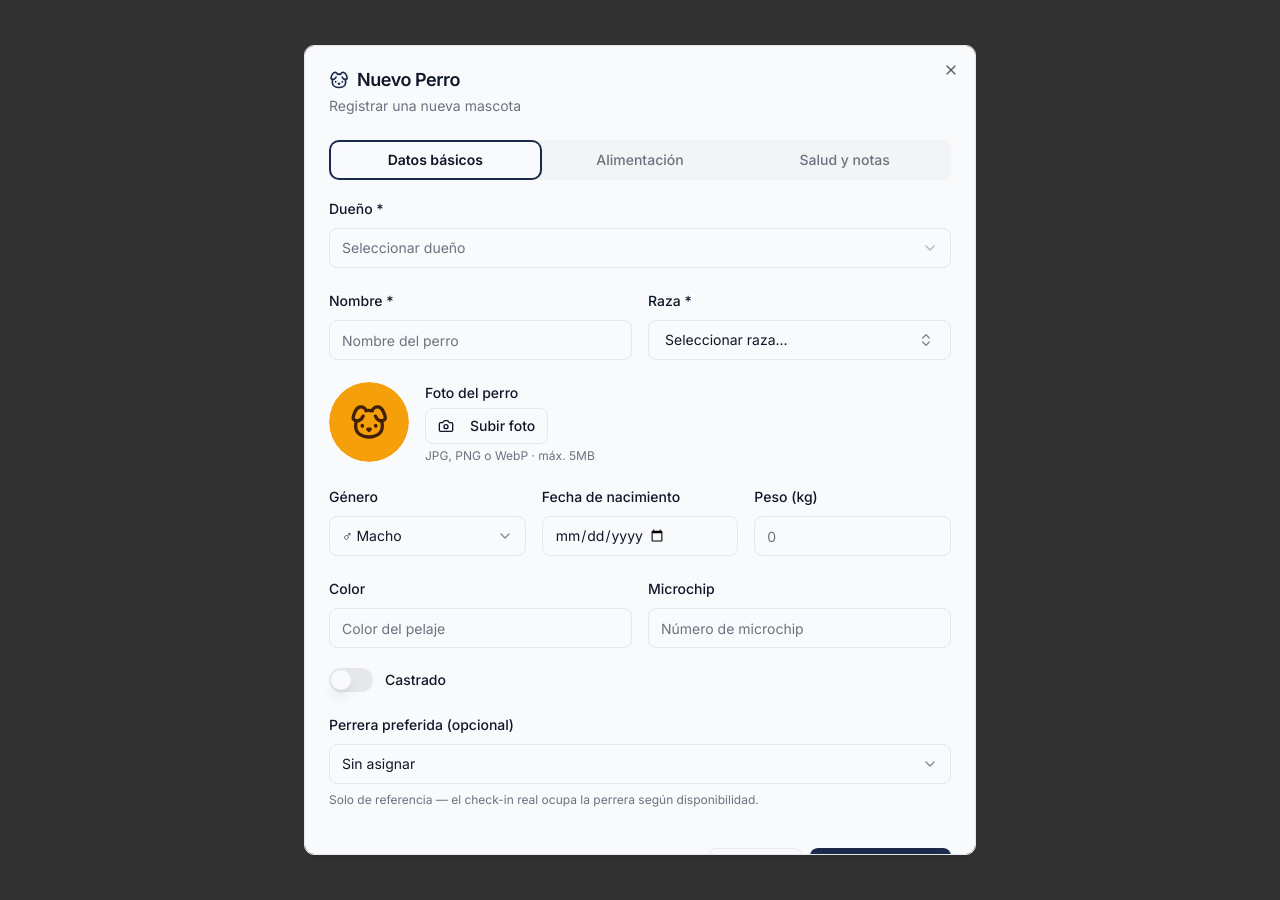
Test: DogModal — tabs y formulario clínico › revela el sub-form de agresividad al encender el toggle (tab salud)
Press the mouse on the tab "Salud y notas": (845, 160) [742,144,947,176]
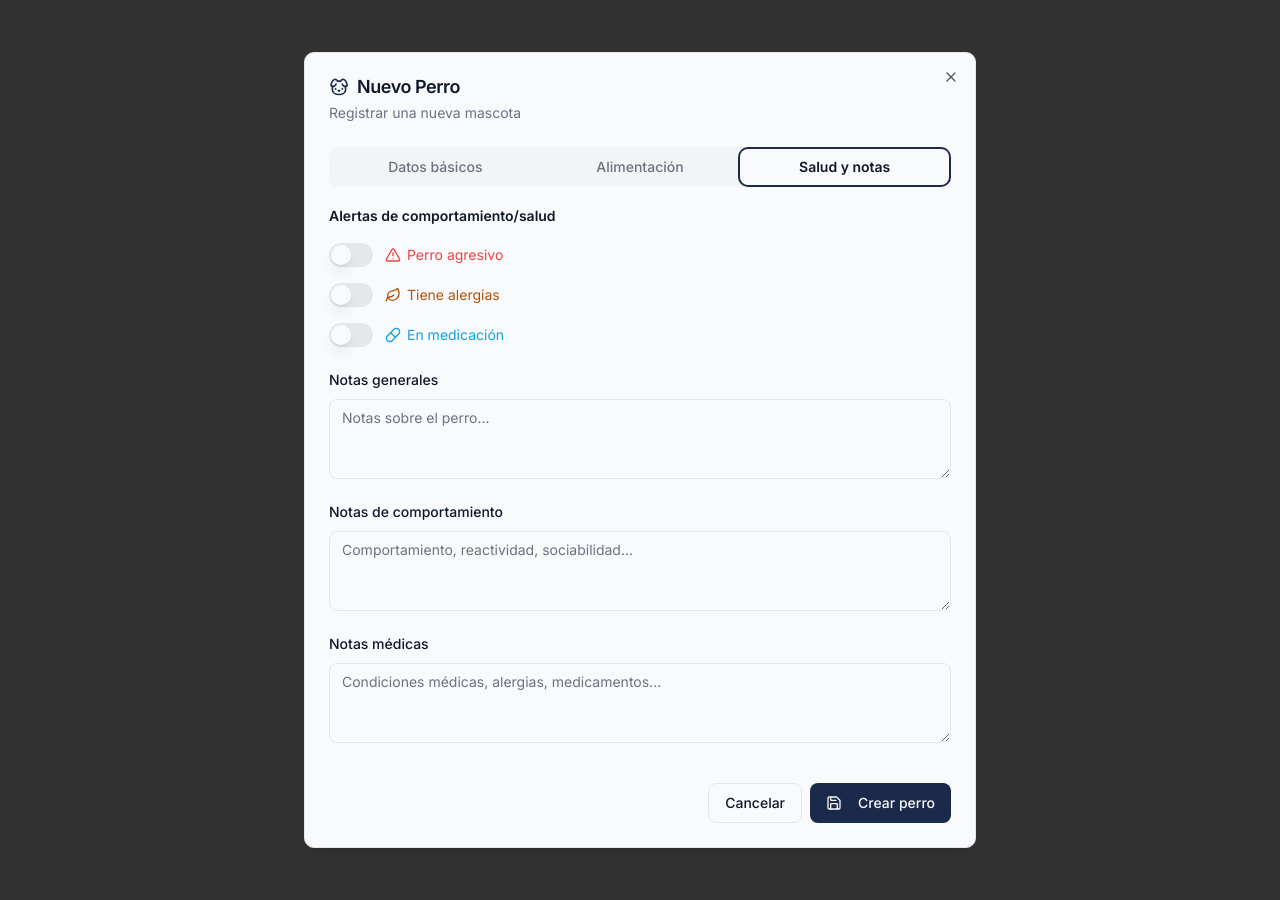
Click the switch named "perro agresivo": click(351, 255) [329,243,373,267]
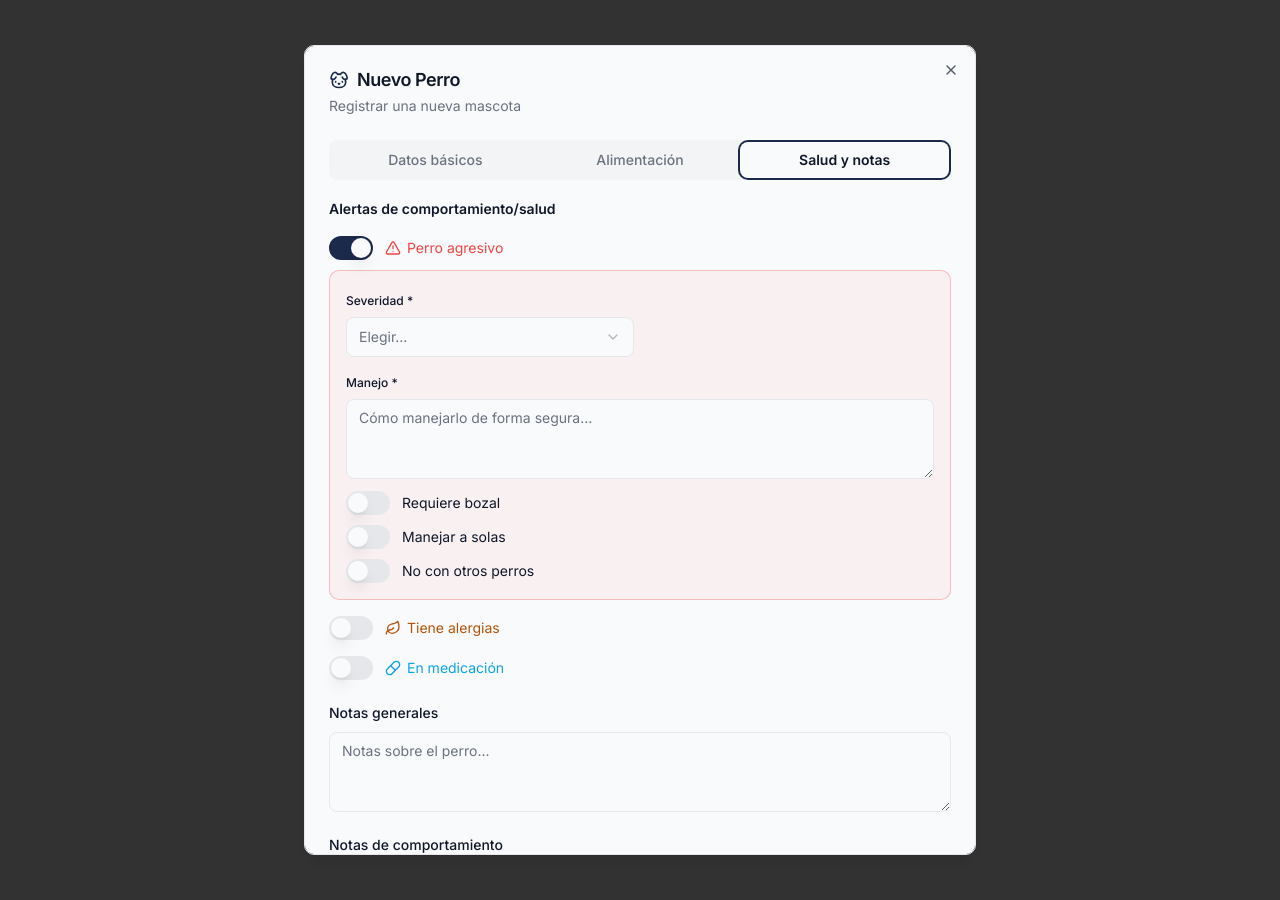
Result: the text box labelled "Manejo *" is shown at [346,399,934,479]
